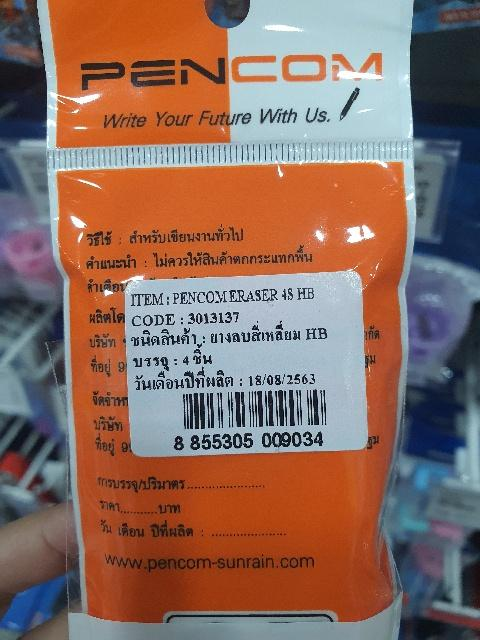Barcode: (169, 386, 333, 455)
